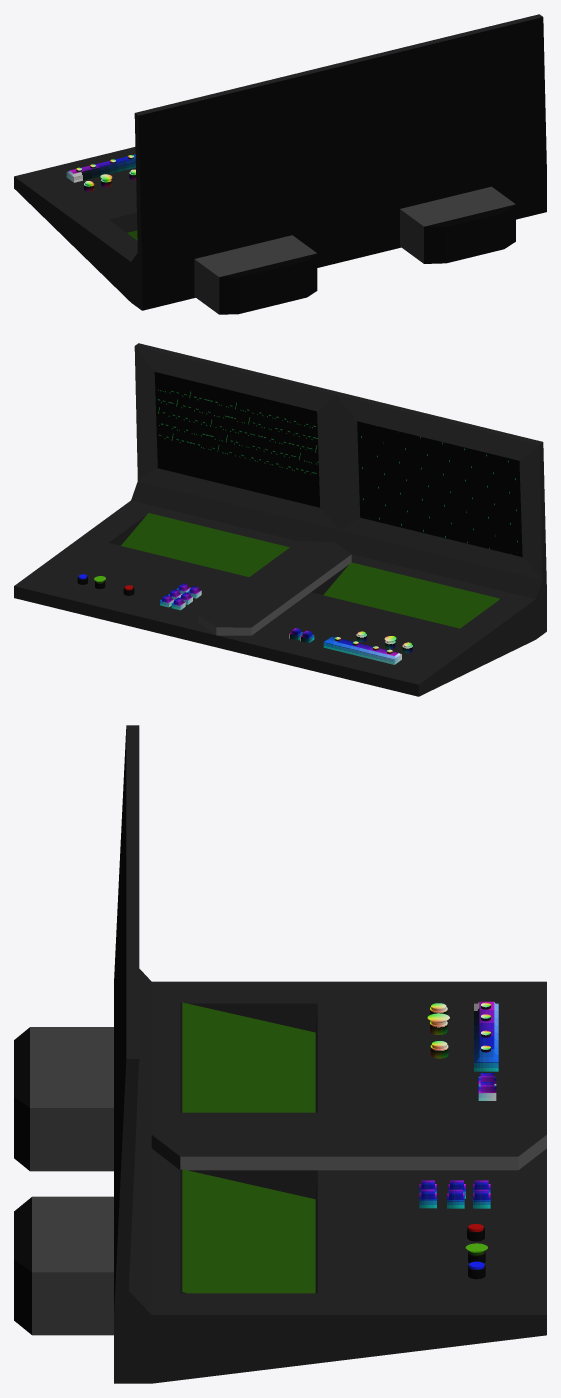
File: computer.fbx
The picture shows the model from 3 angles, top to bottom: view 1: azimuth 30°, elevation 25°; view 2: azimuth 150°, elevation 25°; view 3: azimuth 270°, elevation 25°; orthographic projection. The views are drawn at different scales.
Parts seen in each view (by area): view 1: Cube; view 2: Cube; view 3: Cube.
Part boxes in pixels (x1,y1,x2,y2): Cube: [14, 14, 546, 314]; Cube: [14, 343, 546, 696]; Cube: [14, 725, 546, 1383].
Size of the model in its own units: 543 by 246 by 366.
